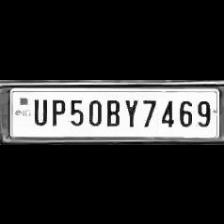0: (85, 96, 103, 127)
4: (157, 95, 175, 127)
5: (66, 94, 84, 126)
6: (176, 96, 192, 127)
7: (138, 95, 156, 127)
9: (193, 96, 211, 127)
B: (102, 95, 122, 127)
P: (47, 96, 65, 127)
U: (30, 96, 48, 127)
Y: (122, 95, 140, 127)
